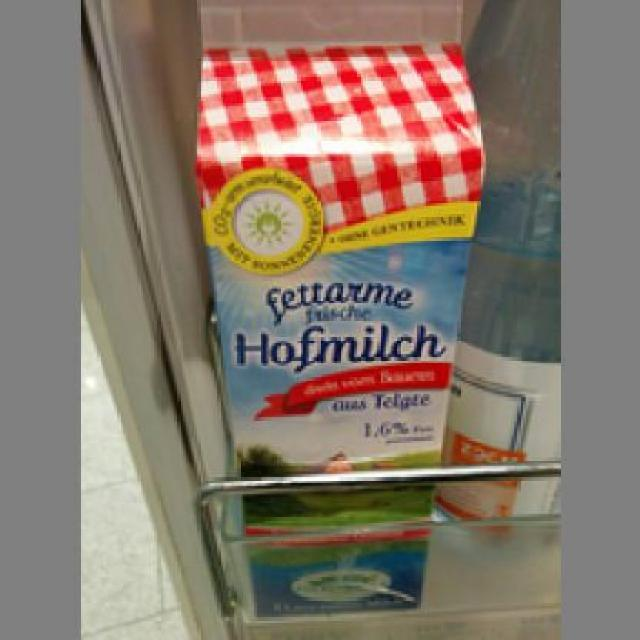Milk: (183, 3, 486, 620)
